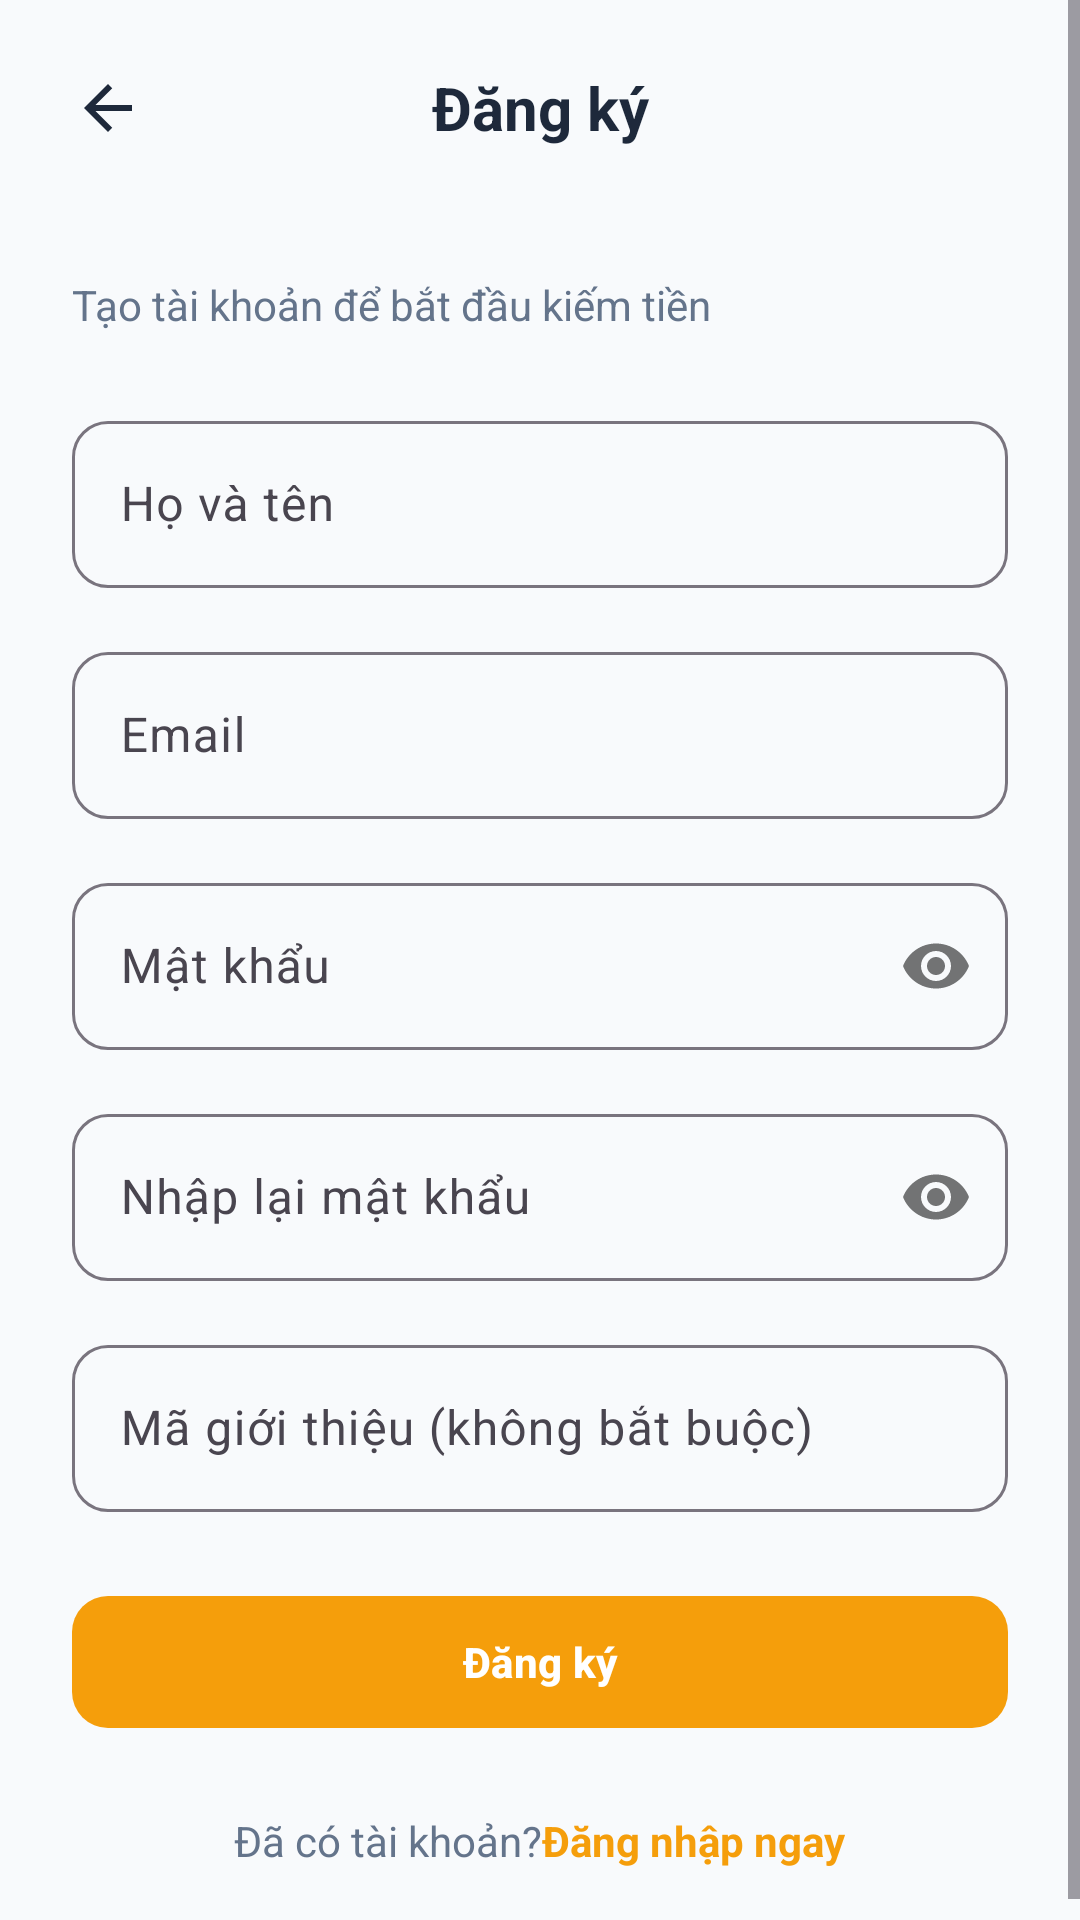

Point at icon controls on the screen. Image size 1080x1920, points as point (x, y).
Quay lại: point (108, 108)
